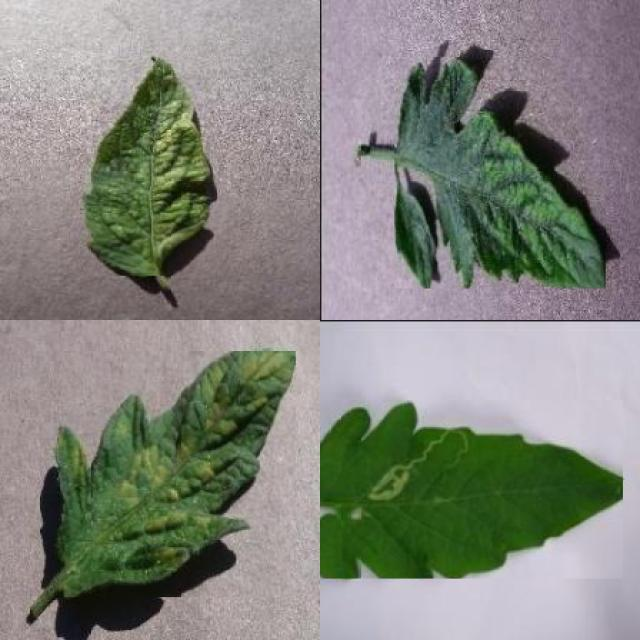Leaf Miner: (320, 400, 623, 579)
Leaf Mold: (58, 350, 296, 597)
Mosaic Virus: (395, 58, 605, 288)
Spider Mites: (86, 56, 218, 276)
